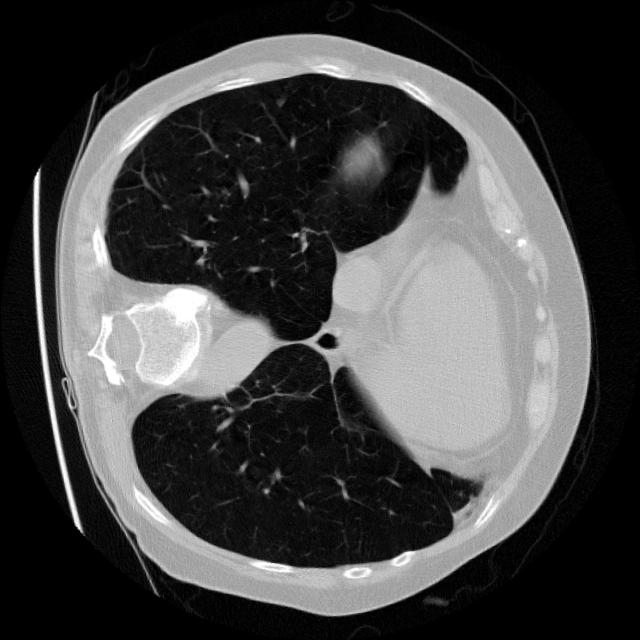nodule: (268, 85, 296, 113)
